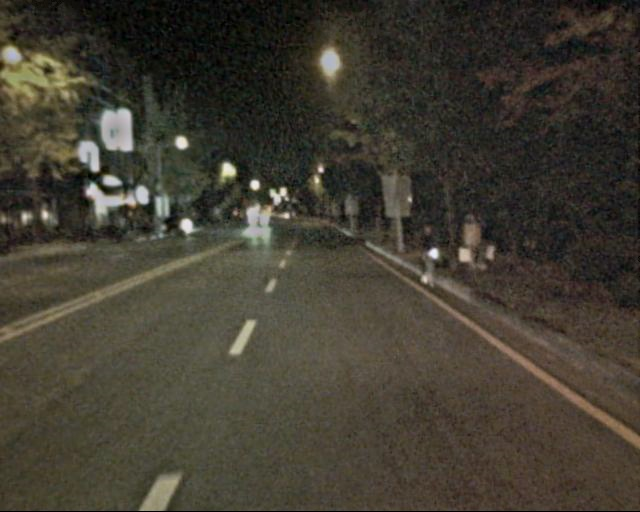person: (417, 226, 441, 283), (460, 215, 483, 272), (472, 215, 495, 272)
